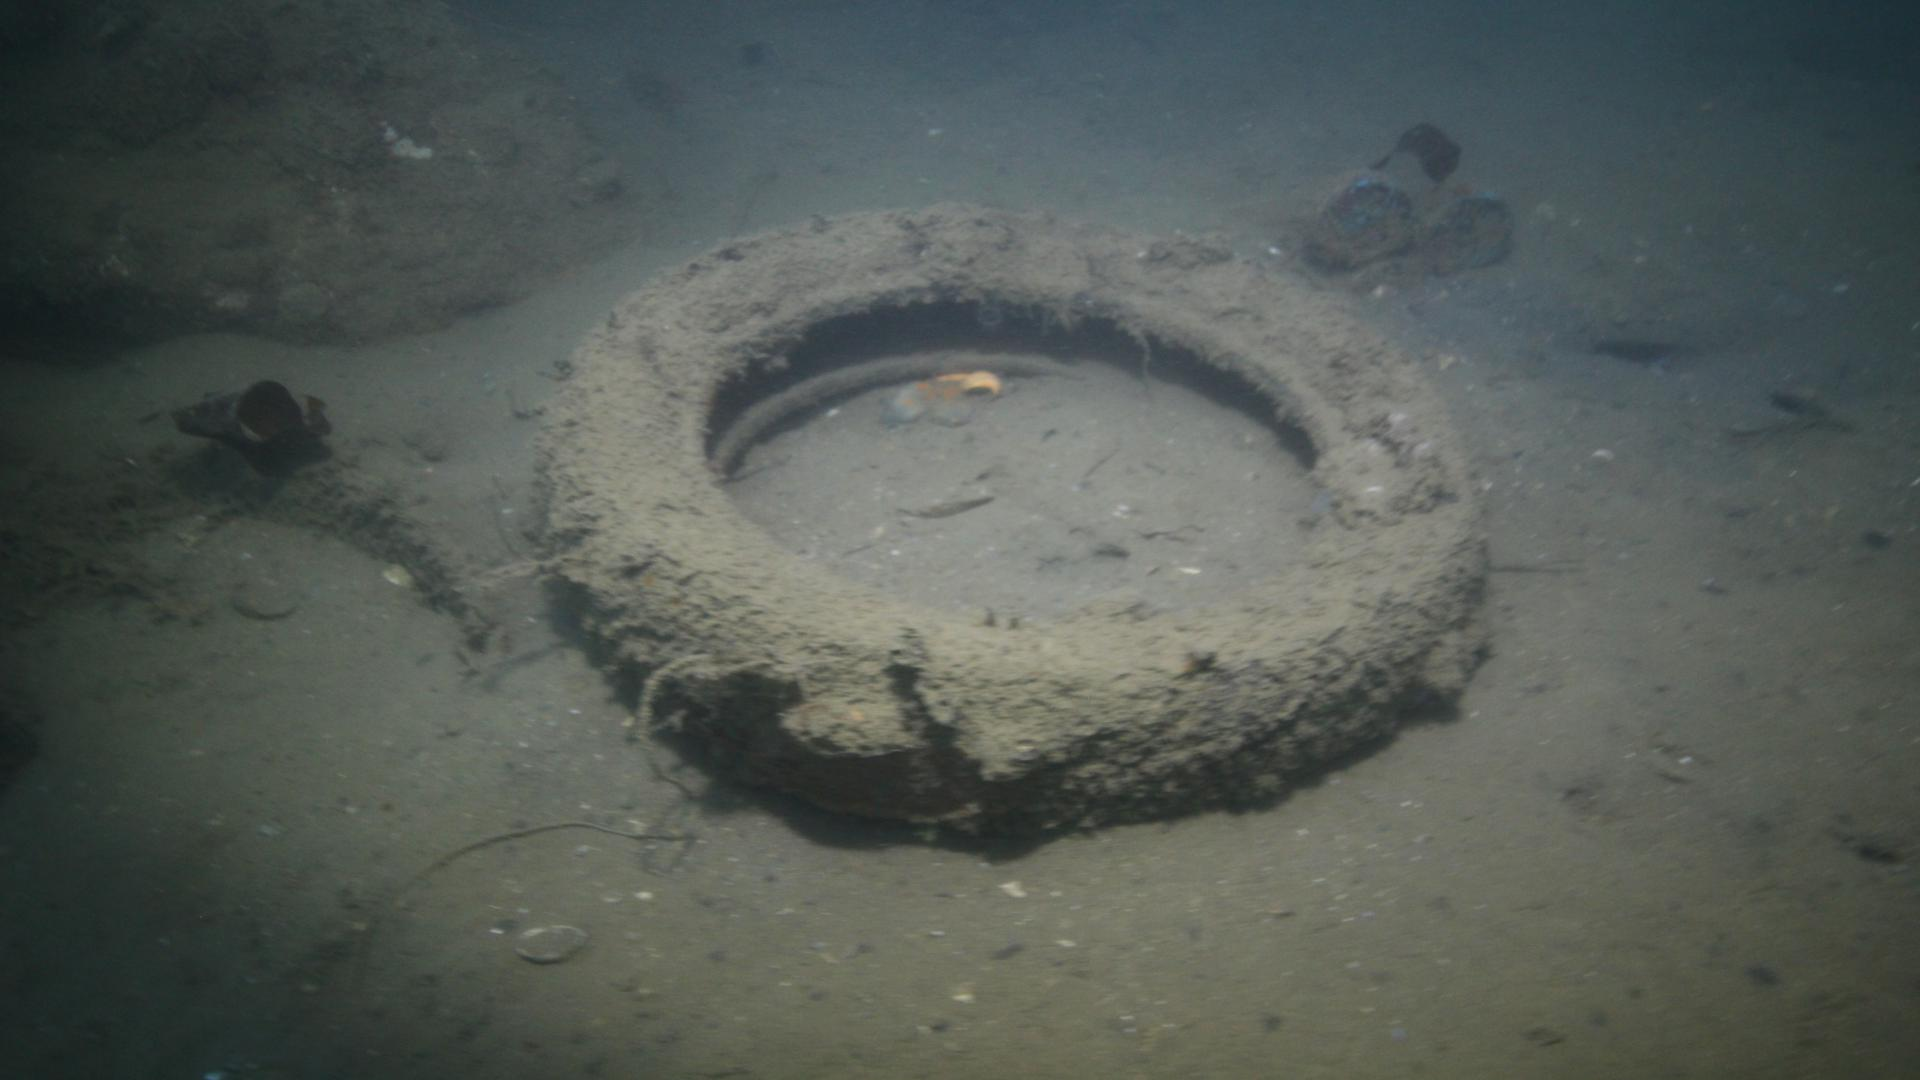tire: (533, 200, 1491, 827)
